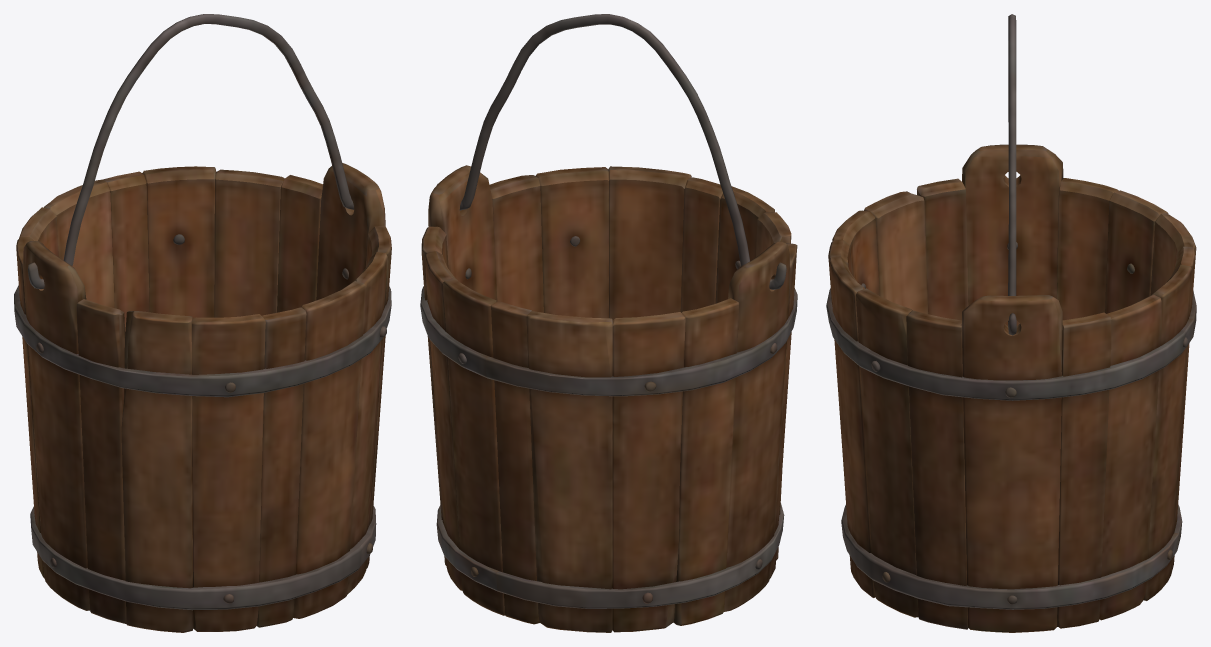
File: wooden_bucket_01.gltf
3 views of the same model, side by side, from view 1: azimuth 30°, elevation 25°; view 2: azimuth 150°, elevation 25°; view 3: azimuth 270°, elevation 25° (orthographic).
Parts seen in each view (by area): view 1: wooden_bucket_01, wooden_bucket_01_handle; view 2: wooden_bucket_01, wooden_bucket_01_handle; view 3: wooden_bucket_01, wooden_bucket_01_handle.
Boxes of the visible parts, x1=… form: wooden_bucket_01: x1=14, y1=163, x2=391, y2=632; wooden_bucket_01_handle: x1=27, y1=14, x2=354, y2=289; wooden_bucket_01: x1=420, y1=165, x2=797, y2=632; wooden_bucket_01_handle: x1=437, y1=14, x2=786, y2=289; wooden_bucket_01: x1=826, y1=144, x2=1196, y2=632; wooden_bucket_01_handle: x1=1008, y1=14, x2=1016, y2=335.
Bounding box in the file's own units: 0.367 × 0.5499 × 0.3422.
Materials: 1 (1 with a texture image).
